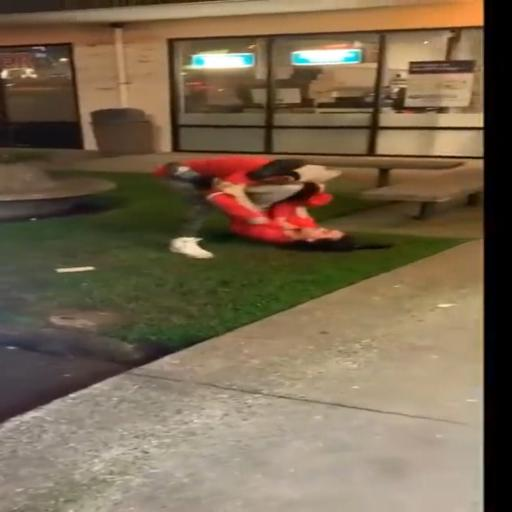violencia: (136, 144, 410, 262)
